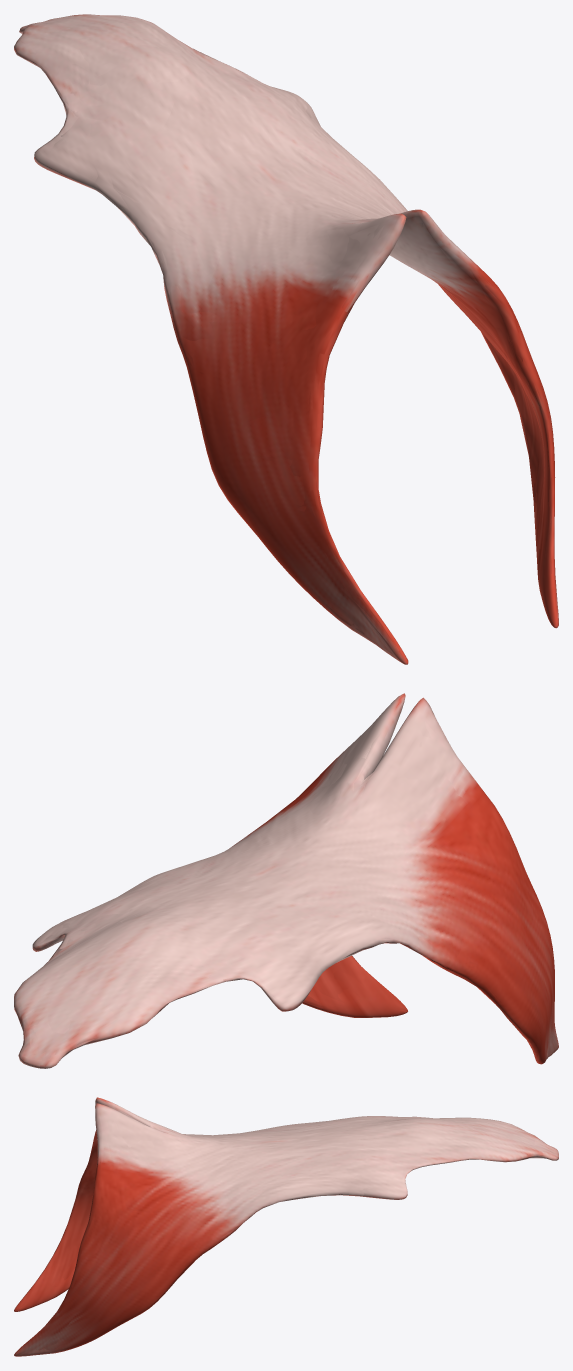
Rendered from Latissimus Dorsi.fbx.
3 renders of one model, top to bottom at view 1: azimuth 30°, elevation 25°; view 2: azimuth 150°, elevation 25°; view 3: azimuth 270°, elevation 25°, orthographic. The views are drawn at different scales.
Parts seen in each view (by area): view 1: Latissimus Dorsi, Latissimus Dorsi low; view 2: Latissimus Dorsi, Latissimus Dorsi low; view 3: Latissimus Dorsi, Latissimus Dorsi low.
Boxes of the visible parts, bbox=[...] form: Latissimus Dorsi: bbox=[14, 14, 558, 664]; Latissimus Dorsi low: bbox=[15, 15, 558, 663]; Latissimus Dorsi: bbox=[14, 693, 558, 1068]; Latissimus Dorsi low: bbox=[14, 694, 558, 1067]; Latissimus Dorsi: bbox=[14, 1097, 558, 1356]; Latissimus Dorsi low: bbox=[14, 1098, 558, 1355].
Size of the model in its own units: 48.68 by 58.12 by 123.
